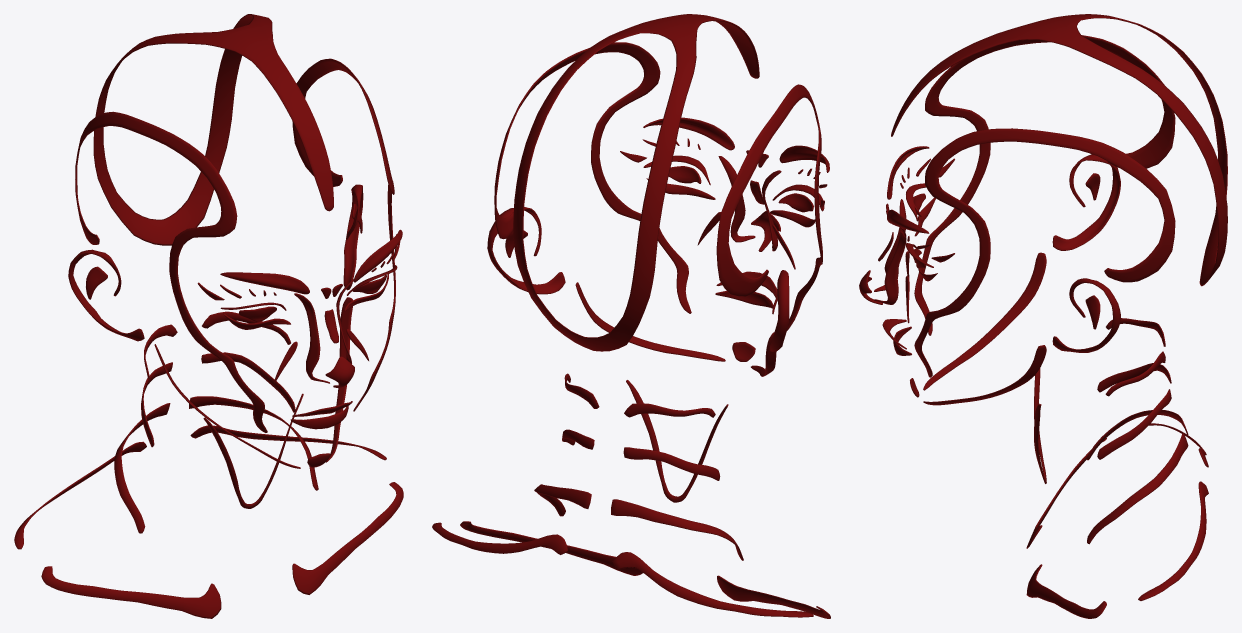
File: head.glb
3 renders of one model, left to right at view 1: azimuth 30°, elevation 25°; view 2: azimuth 150°, elevation 25°; view 3: azimuth 270°, elevation 25°, orthographic. The views are drawn at different scales.
Visible parts, largest first — view 1: head; view 2: head; view 3: head.
Part boxes in pixels (<box>): head: <box>14,14,403,618</box>; head: <box>432,14,830,618</box>; head: <box>859,14,1227,618</box>.
Size of the model in its own units: 0.6992 by 1.01 by 0.6198.
